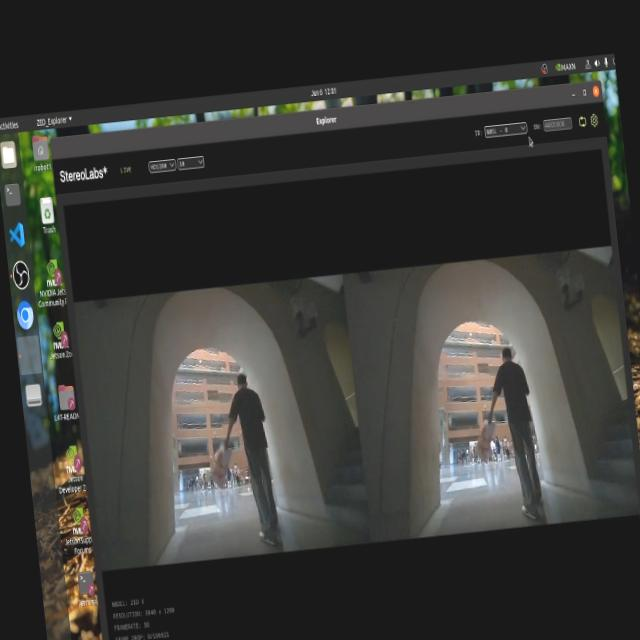red: (208, 452, 232, 490), (480, 424, 493, 462)
